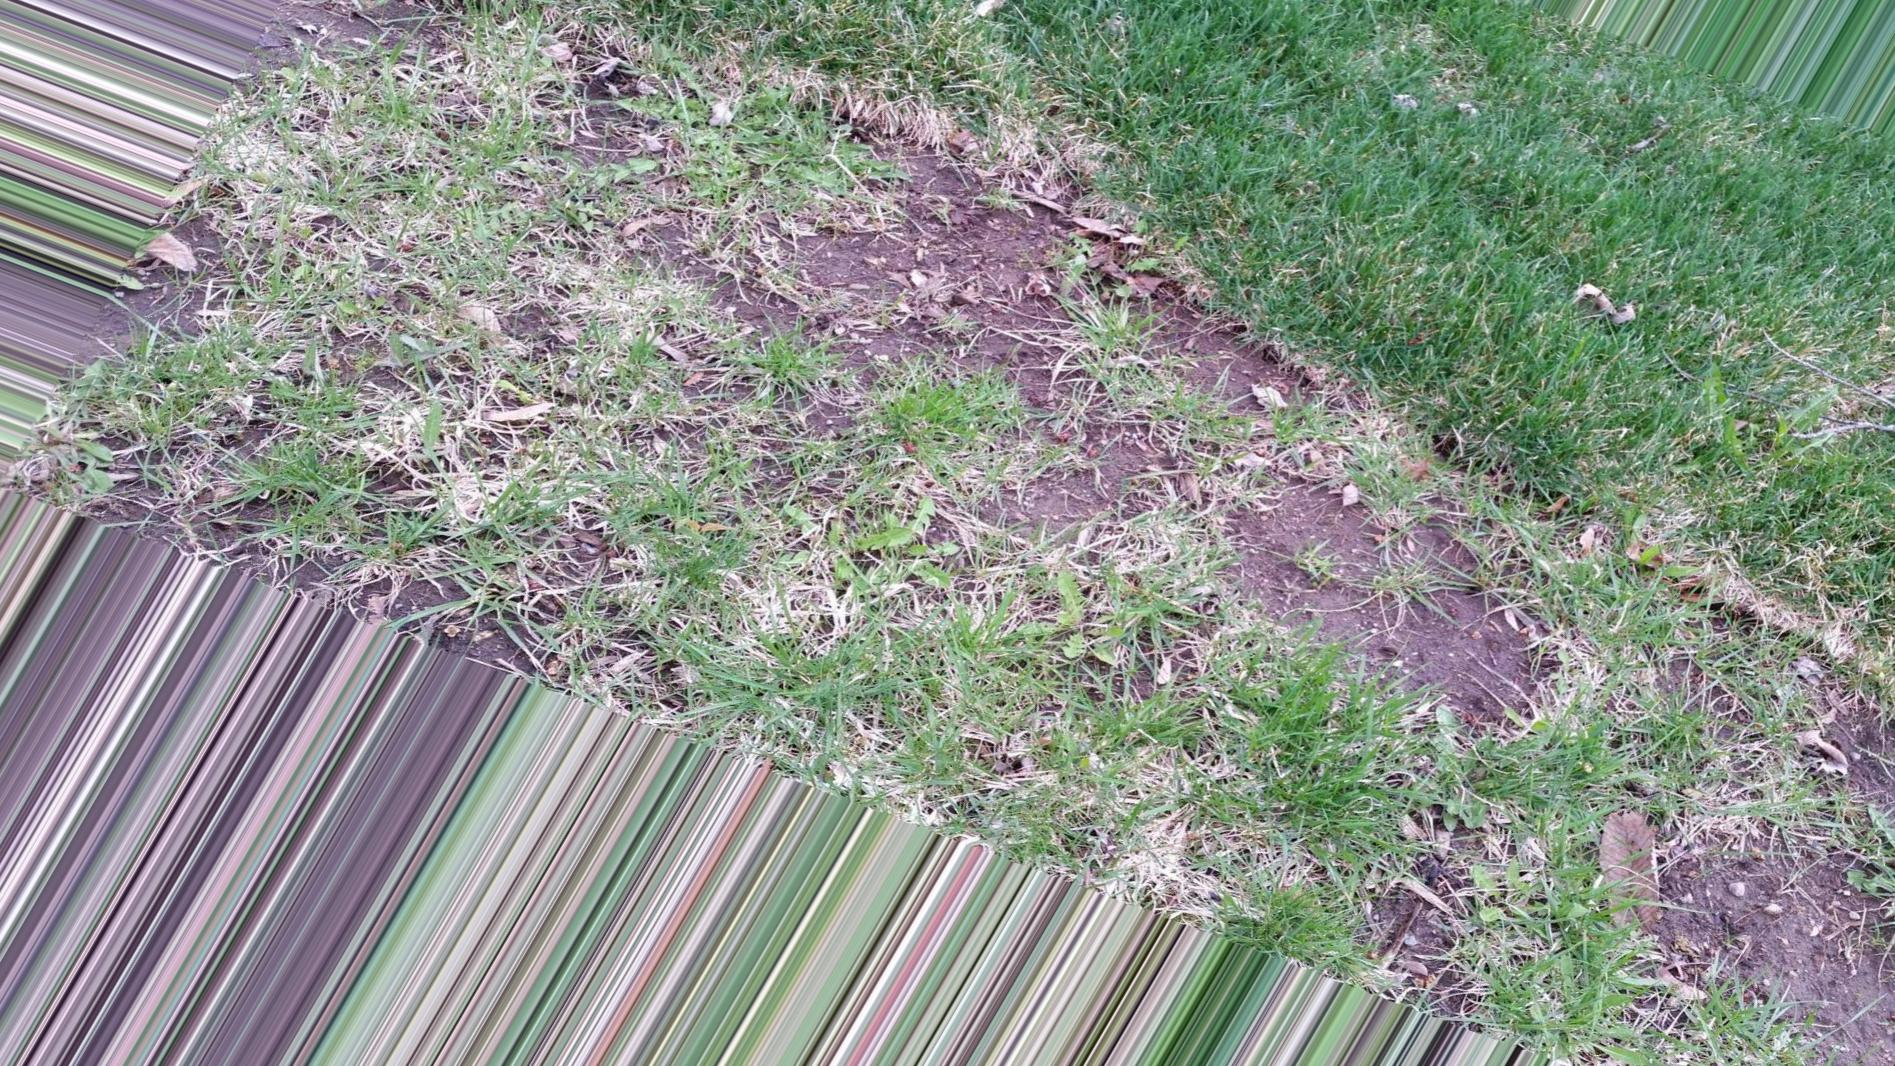patch: (767, 163, 1233, 541), (1626, 653, 1878, 1043), (1275, 469, 1536, 768)
